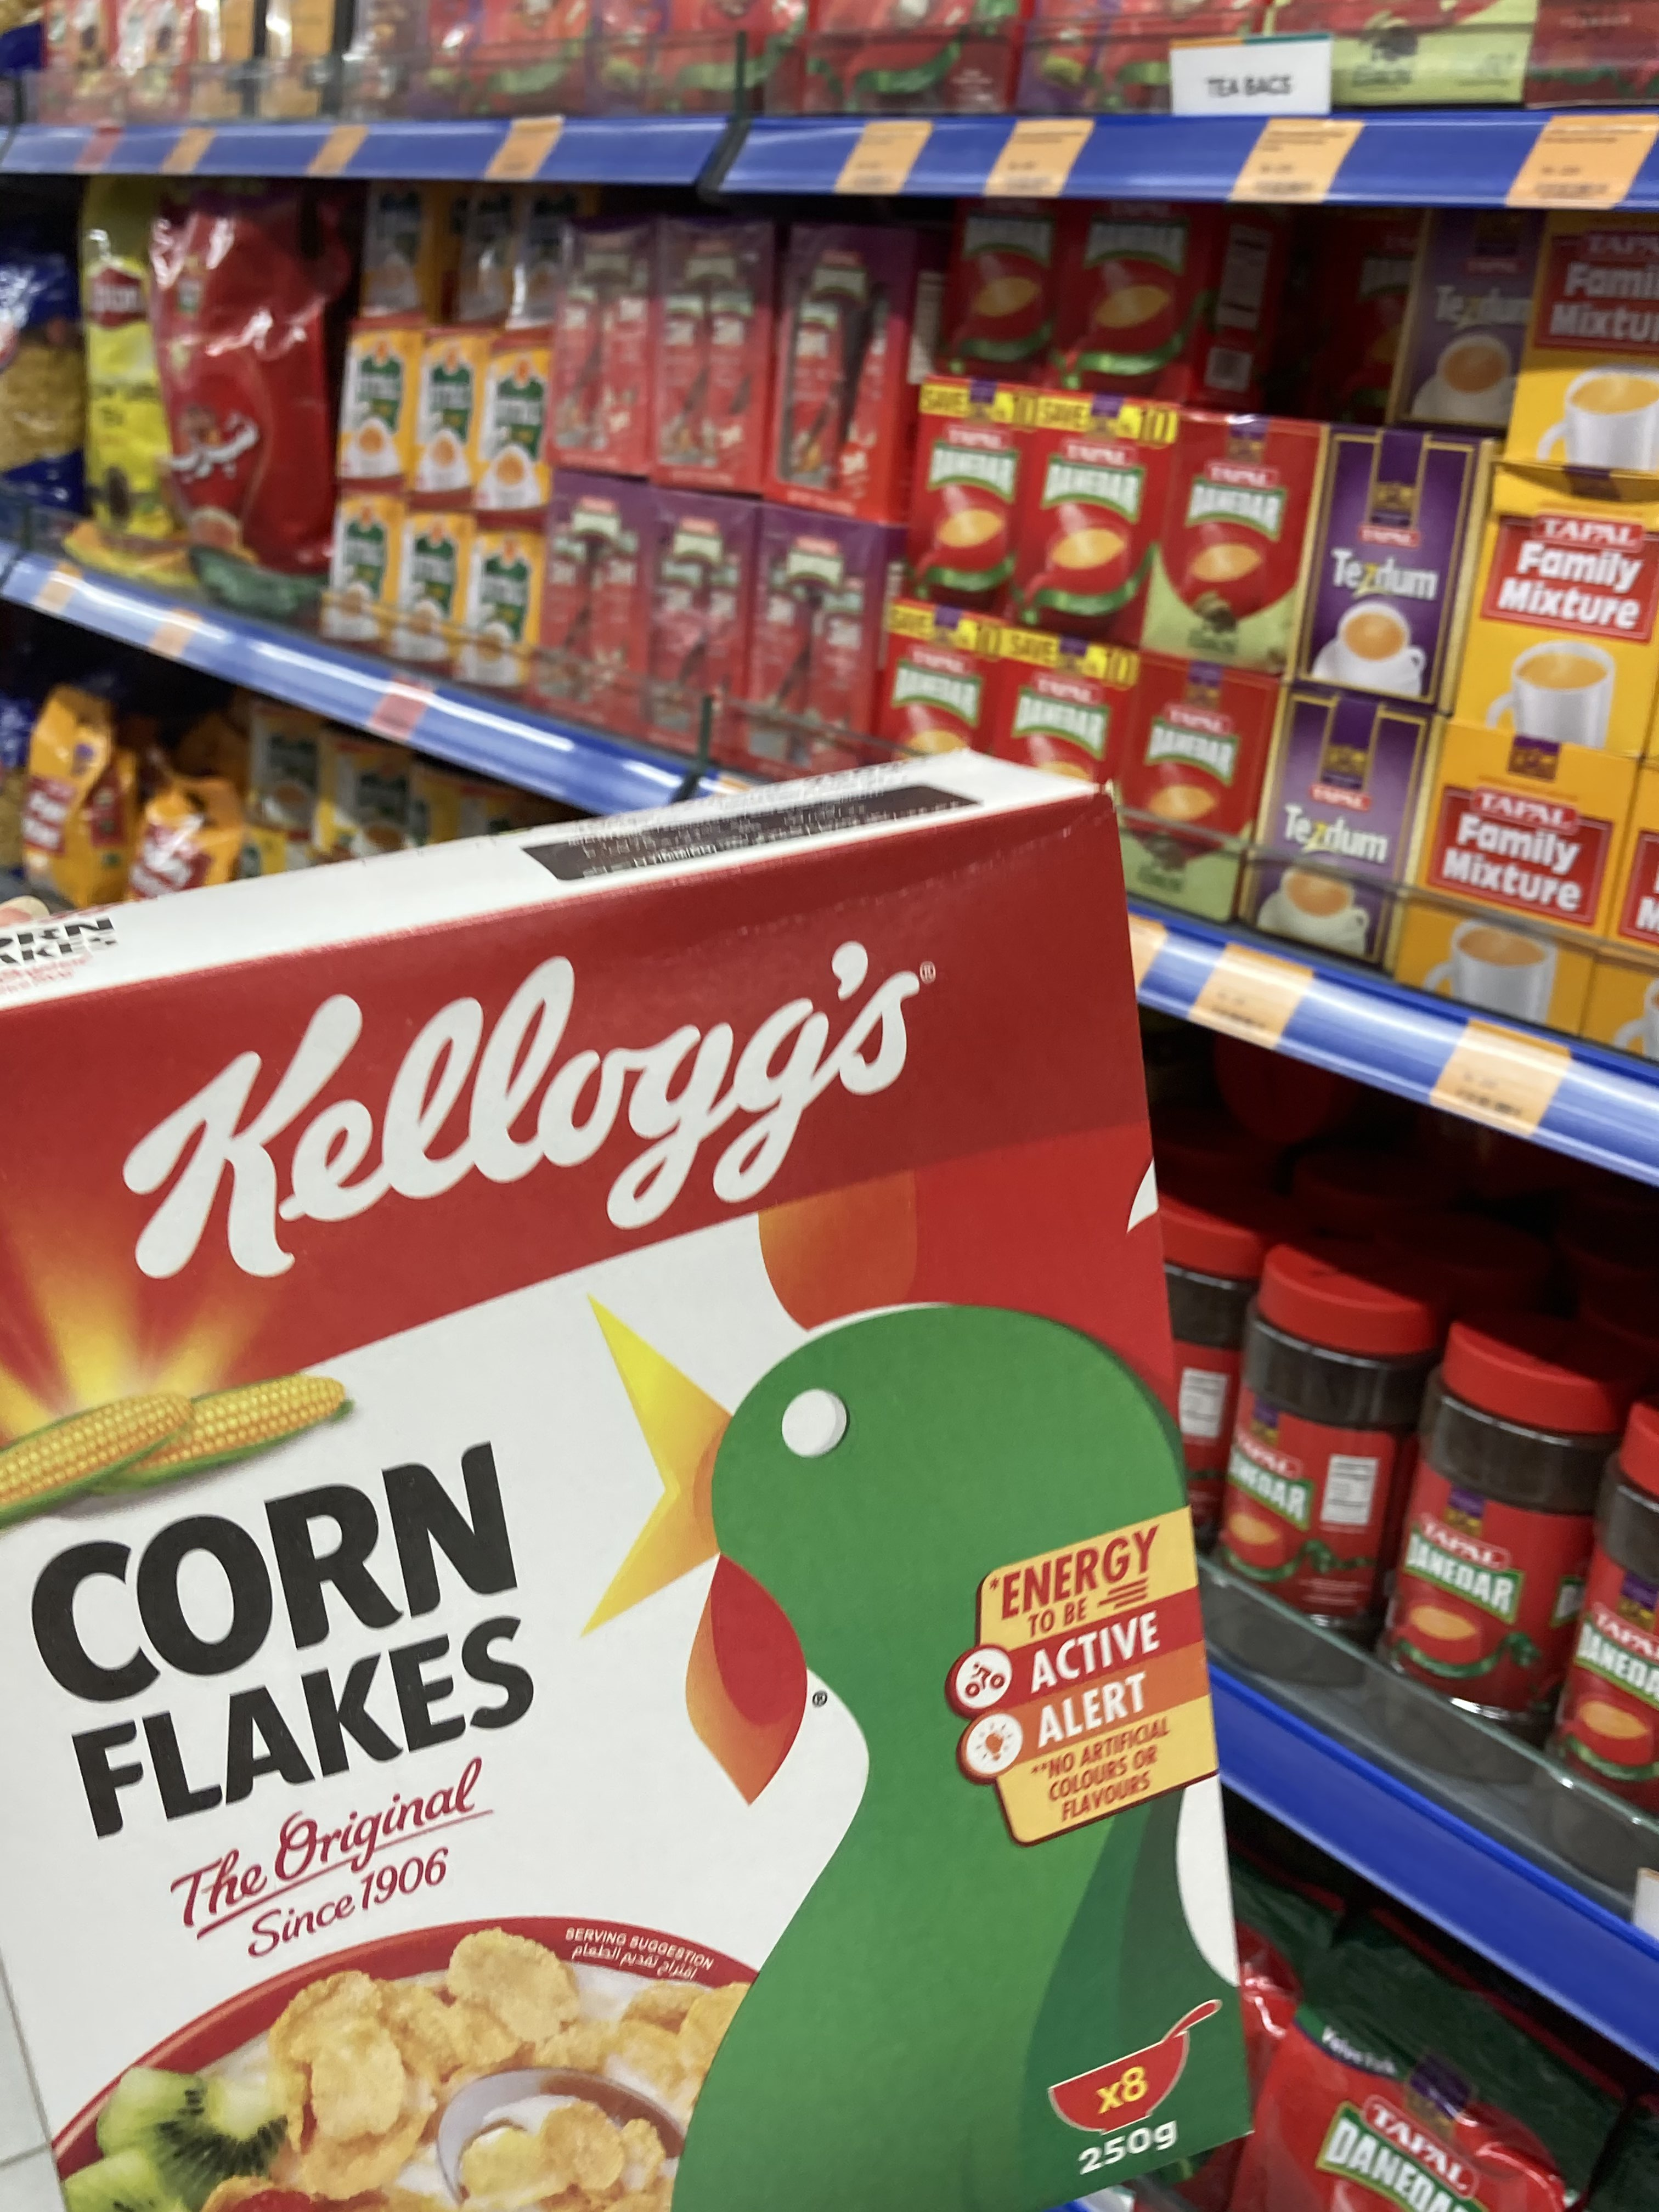Kellogg's Corn Flakes: (12, 749, 1253, 2212)
